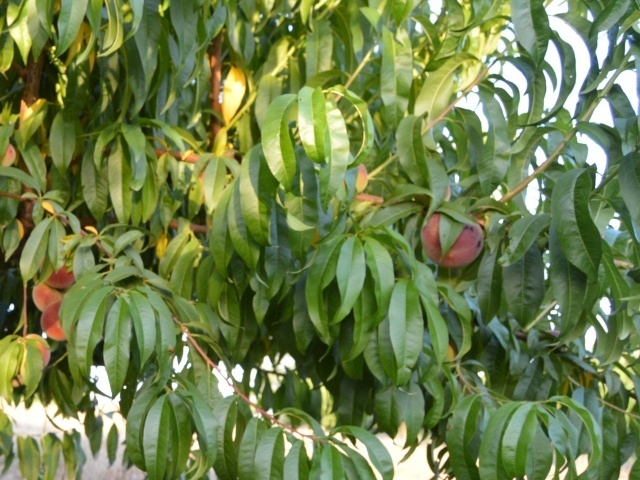peach: (414, 209, 489, 271), (23, 274, 67, 314), (40, 252, 83, 292), (38, 299, 76, 344), (21, 330, 55, 368)
